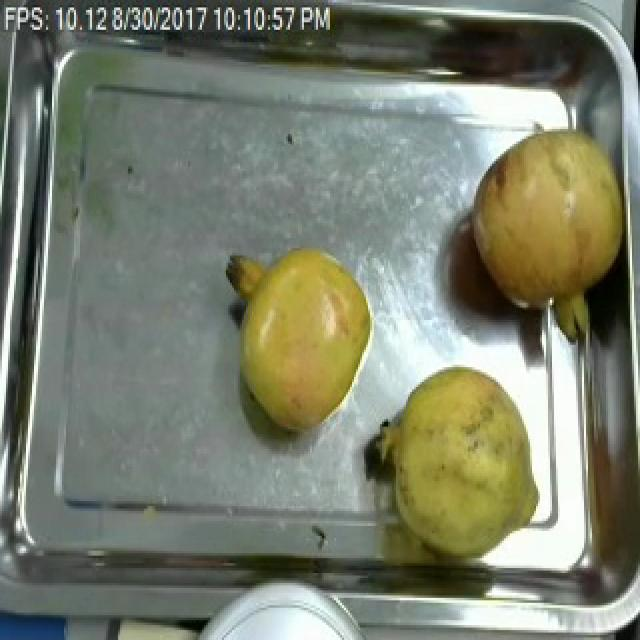fruit: (460, 109, 638, 342), (370, 354, 546, 566), (224, 233, 380, 449)
